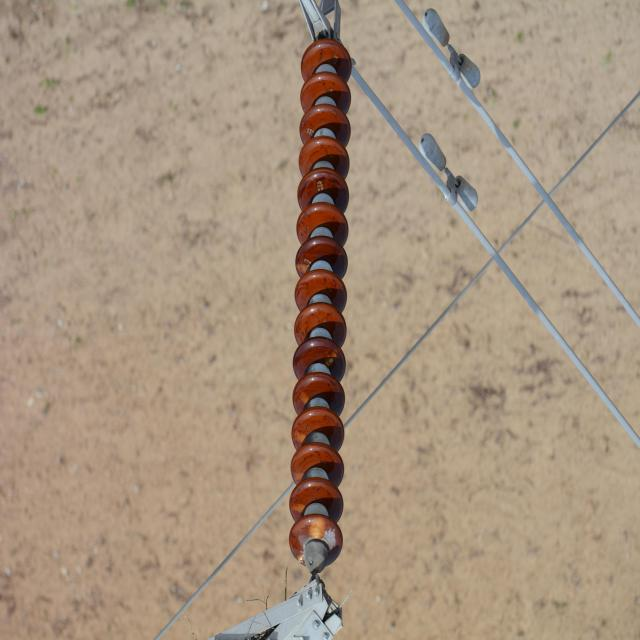insulator: (288, 40, 352, 567)
